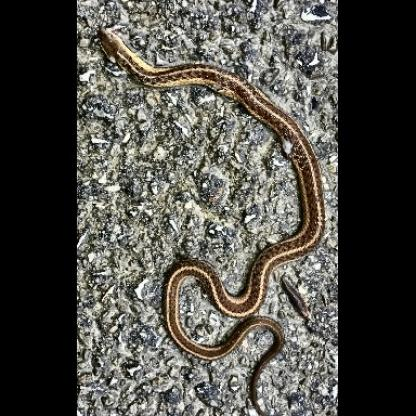Snake: (95, 21, 323, 416)
